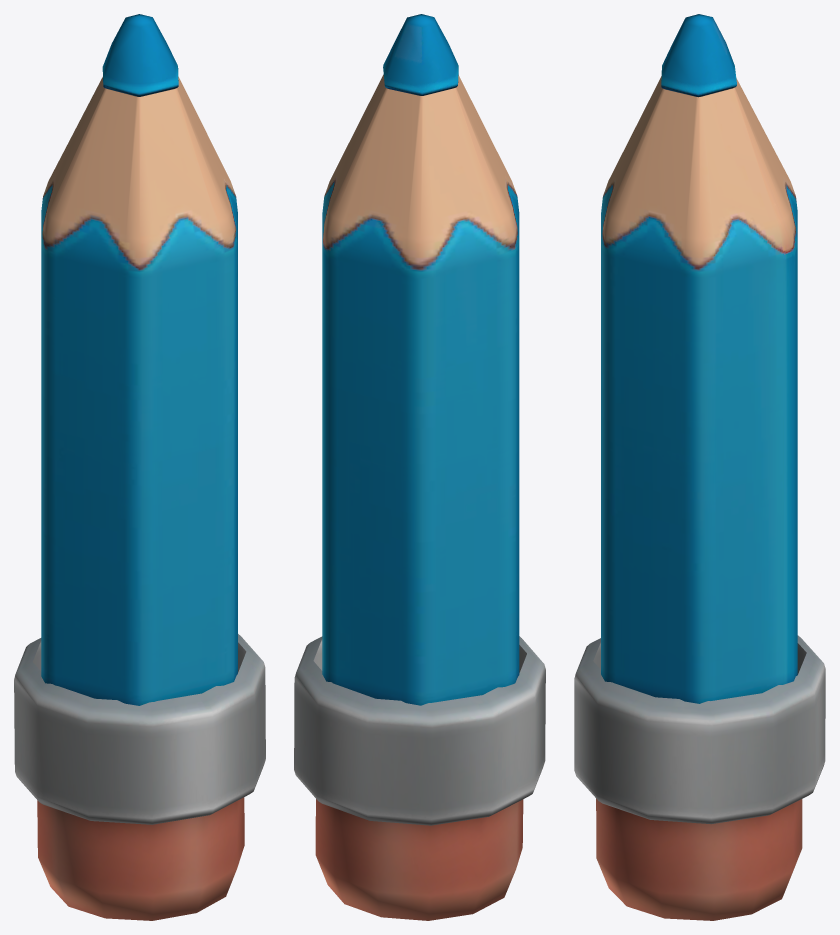
File: 0-pencil_blue.fbx
3 views of the same model, side by side, from view 1: azimuth 30°, elevation 25°; view 2: azimuth 150°, elevation 25°; view 3: azimuth 270°, elevation 25° (orthographic).
Visible parts, largest first — view 1: 0-pencil_blue; view 2: 0-pencil_blue; view 3: 0-pencil_blue.
Boxes of the visible parts, bbox=[...] form: 0-pencil_blue: bbox=[14, 14, 265, 920]; 0-pencil_blue: bbox=[294, 14, 545, 920]; 0-pencil_blue: bbox=[574, 14, 825, 920].
Size of the model in its own units: 25.36 by 97.38 by 25.29.
